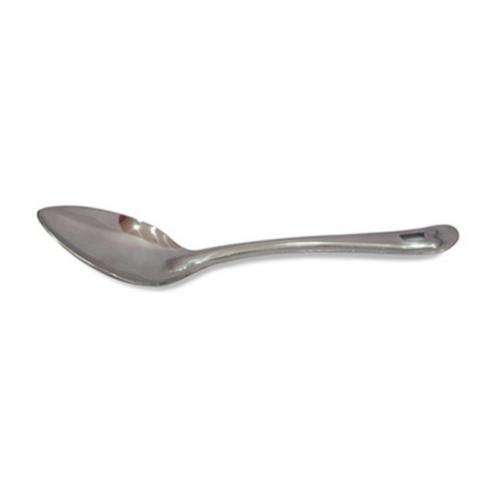Spoon: (36, 205, 460, 287)
